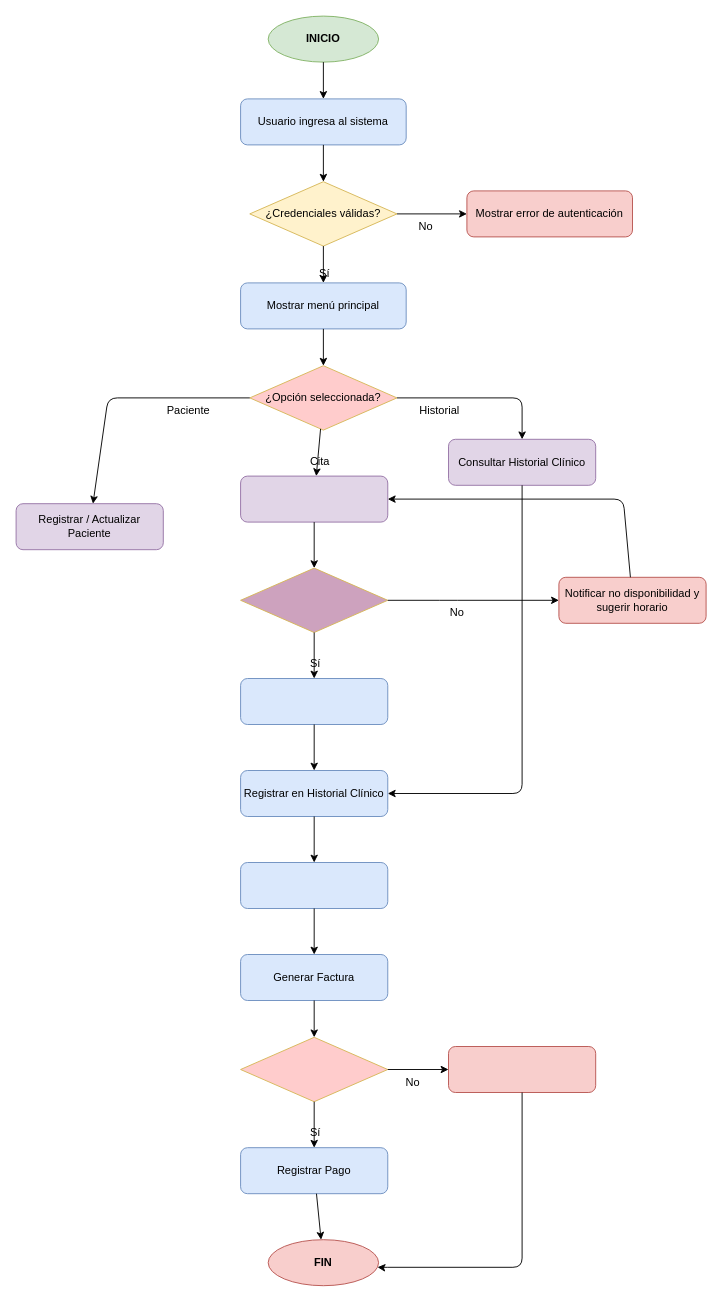
Image size: 722x1302. Some labels were removed from this diagram. Here are the shapes that lost their labels. From the top down, the centre of each, then its label:
point (314, 498): Agendar / Modificar Cita
point (314, 599): ¿Horario disponible?
point (314, 701): Confirmar y guardar Cita
point (314, 885): Asignar Tratamiento
point (314, 1069): ¿Pago realizado?
point (522, 1069): Marcar factura como pendiente
